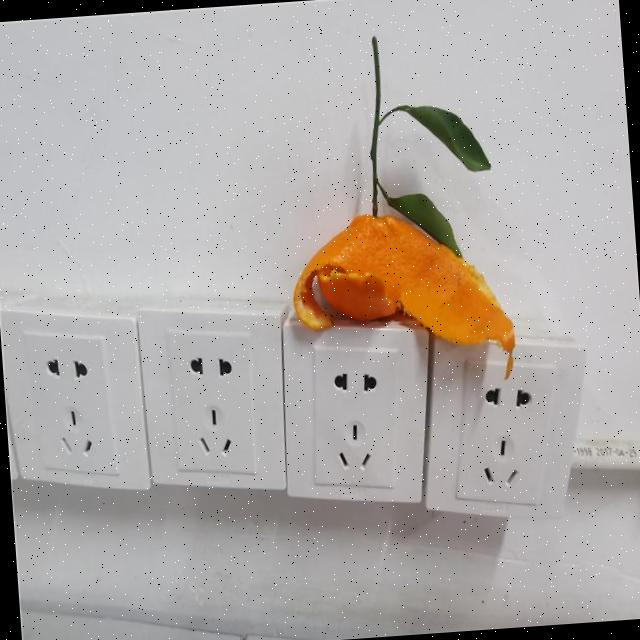orange-peel: (286, 200, 518, 390)
